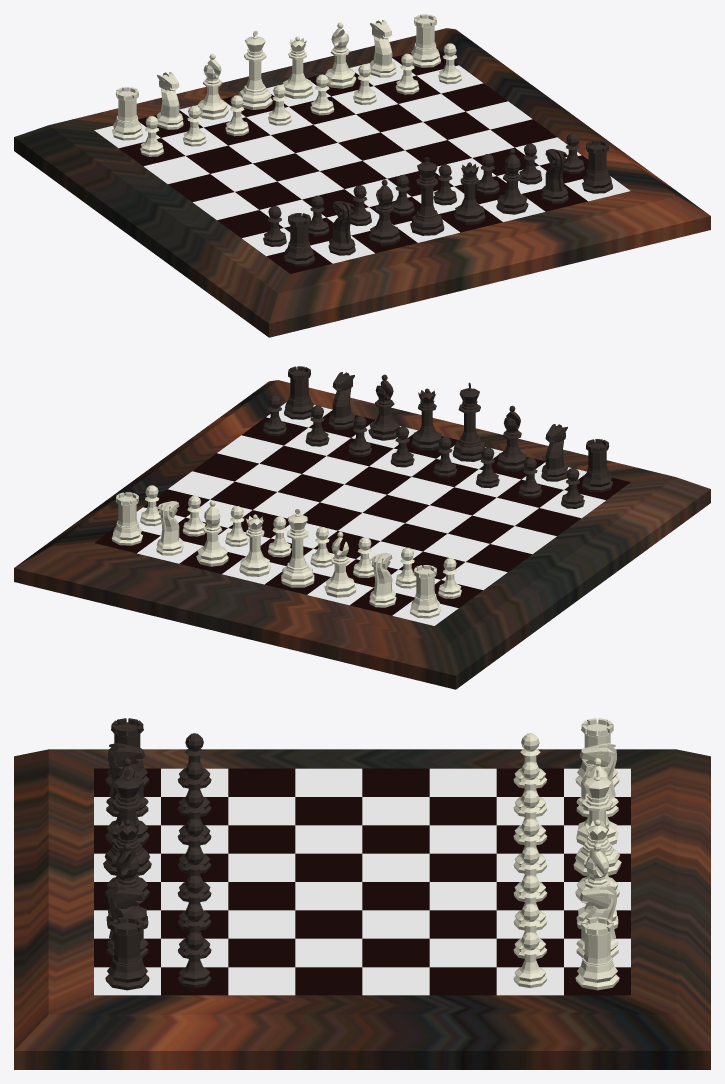
Rendered from chess_scene.glb.
The picture shows the model from 3 angles, top to bottom: view 1: azimuth 30°, elevation 25°; view 2: azimuth 150°, elevation 25°; view 3: azimuth 270°, elevation 25°; orthographic projection. The views are drawn at different scales.
Visible parts, largest first — view 1: Support, ChessBoard, King, King.001, Rook.001, Rook, Rook.002, Rook.003, Bishop.001, Bishop, Bishop.002, Bishop.003 (+22 smaller); view 2: Support, ChessBoard, King.001, King, Rook.003, Rook, Rook.002, Rook.001, Bishop.003, Bishop.001, Queen.001, Bishop (+22 smaller); view 3: Support, ChessBoard, Rook.003, Rook.001, King, King.001, Knight.001, Knight.002, Knight, Knight.003, Pawn.007, Pawn.015 (+22 smaller).
Part boxes in pixels (x1,y1,x2,y2): Support: [14, 28, 710, 337]; ChessBoard: [94, 50, 630, 273]; King: [410, 157, 444, 235]; King.001: [239, 30, 272, 109]; Rook.001: [582, 140, 612, 193]; Rook: [284, 213, 314, 266]; Rook.002: [112, 87, 142, 140]; Rook.003: [411, 14, 440, 67]; Bishop.001: [496, 148, 528, 214]; Bishop: [369, 179, 400, 245]; Bishop.002: [197, 53, 228, 119]; Bishop.003: [325, 22, 356, 88]; Support: [14, 380, 710, 689]; ChessBoard: [94, 402, 630, 625]; King.001: [281, 509, 314, 587]; King: [452, 382, 485, 461]; Rook.003: [111, 492, 142, 545]; Rook: [582, 439, 612, 492]; Rook.002: [410, 565, 440, 618]; Rook.001: [284, 366, 313, 419]; Bishop.003: [196, 500, 228, 566]; Bishop.001: [368, 374, 399, 440]; Queen.001: [239, 514, 270, 576]; Bishop: [496, 405, 526, 471]; Support: [14, 749, 710, 1069]; ChessBoard: [94, 768, 630, 995]; Rook.003: [575, 917, 619, 990]; Rook.001: [105, 917, 149, 990]; King: [103, 769, 151, 875]; King.001: [573, 768, 621, 875]; Knight.001: [106, 885, 148, 957]; Knight.002: [576, 885, 618, 957]; Knight: [106, 743, 148, 816]; Knight.003: [576, 743, 618, 816]; Pawn.007: [177, 932, 211, 988]; Pawn.015: [513, 932, 547, 988].
Size of the model in its own units: 0.6227 by 0.1367 by 0.6227.
5 materials, 1 textured.
